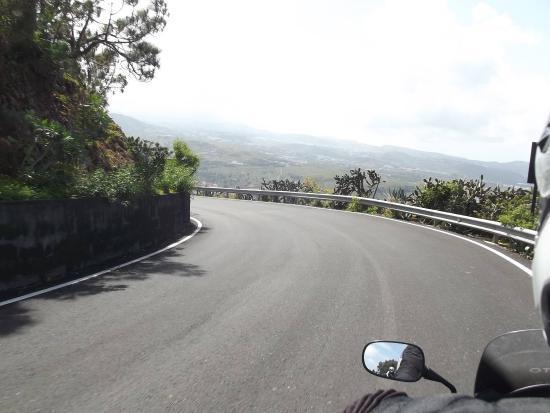reflector: (353, 333, 479, 391)
